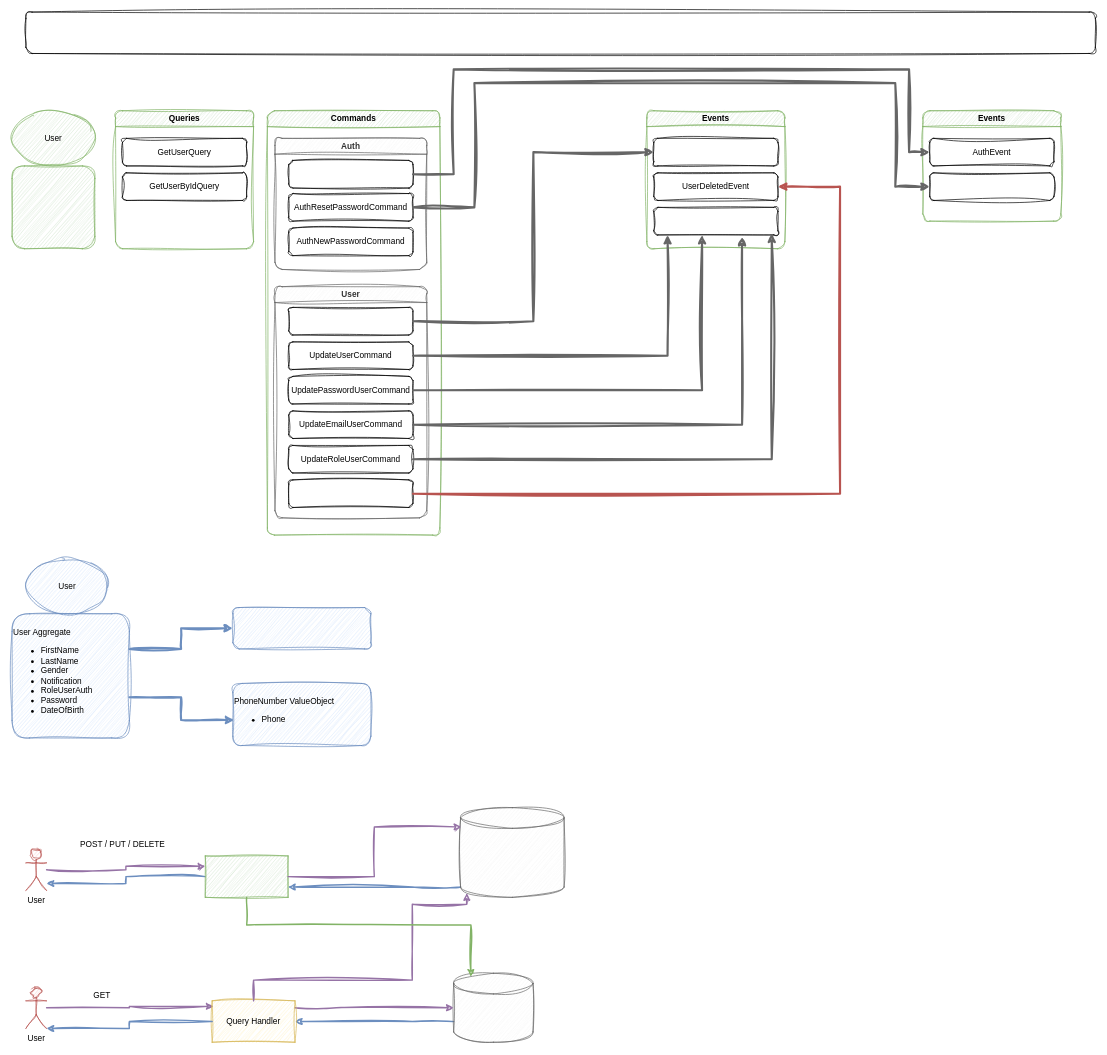
Image size: 1107x1055. Some labels were removed from this diagram. Here are the shapes that lost their labels. From the top down, the centre of each, then its label:
(560,32): Definir Papeis e responsabilidades para os contextos delimitados
(715,152): UserCreatedEvent
(350,174): AuthCommand
(991,186): AuthResetEvent
(53,207): Criação de usuários
(715,221): UserUpdatedEvent
(350,321): CreateUserCommand
(350,493): DeleteUserCommand
(301,628): Email ValueObject Address
(512,852): SQL DataBase - SQL Server
(246,876): Command
(493,1007): Cache Redis
